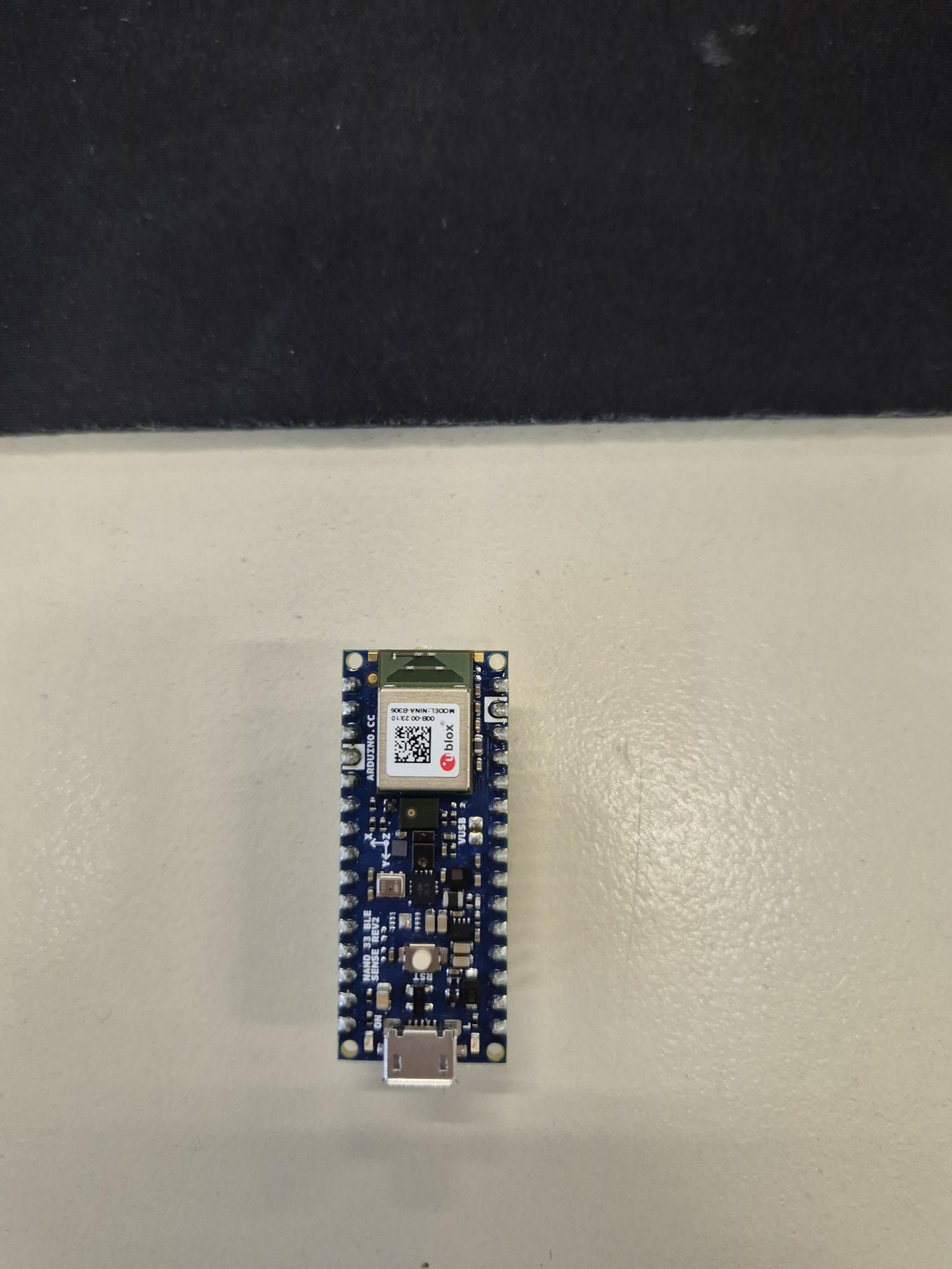arduino-nano-ble-sense: (338, 650, 508, 1087)
